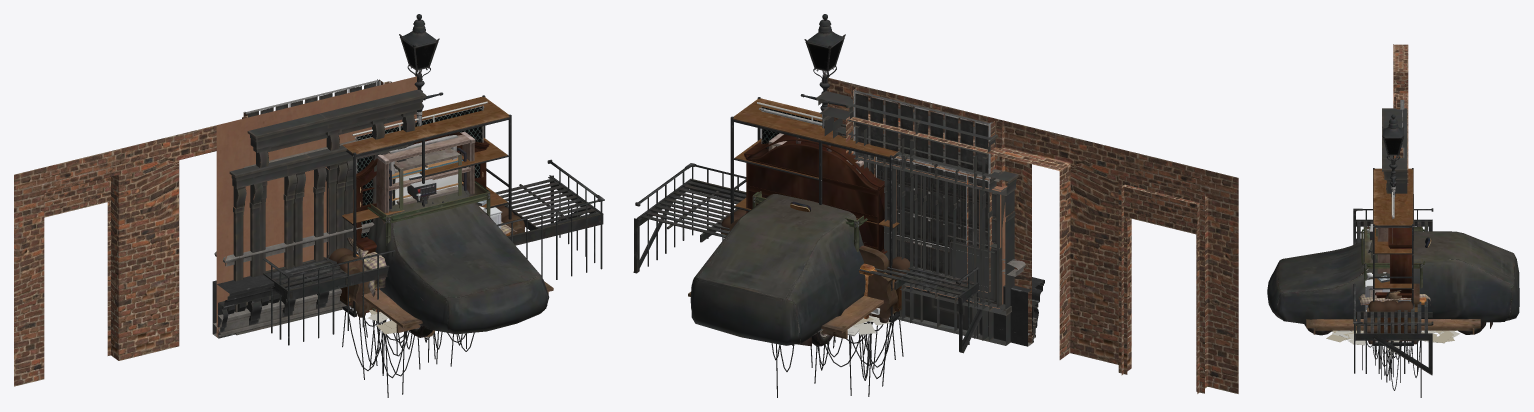
The model's file is props.glb.
The picture shows the model from 3 angles, left to right: view 1: azimuth 30°, elevation 25°; view 2: azimuth 150°, elevation 25°; view 3: azimuth 270°, elevation 25°; orthographic projection. The views are drawn at different scales.
Parts seen in each view (by area): view 1: U|modular_factory_facade|wall_door_garage_door_01, covered_car|all, UF|modular_urban_apartments_facade|wall_window_centered_larg, modular_fire_escape|modular_fire_escape_platform_middle, steel_frame_shelves_03|steel_frame_shelves_03, U|modular_urban_apartments_facade|wall_window_centered_doubl, U|modular_urban_apartments_facade|wall_door_centered_large_0, modular_fire_escape|modular_fire_escape_railing_middle, U|modular_urban_apartments_facade|crown_standard_standard_01, UF|modular_urban_apartments_facade|wall_window_centered_smal, U|modular_urban_apartments_facade|wall_door_window_small_07+, U|modular_urban_apartments_facade|wall_door_window_small_03+ (+18 smaller); view 2: U|modular_factory_facade|wall_door_garage_door_01, covered_car|all, U|modular_factory_facade|wall_window_tall_large_01+window_ta, vintage_cabinet_01|vintage_cabinet_01_body, U|modular_factory_facade|wall_window_centered_large_01+windo, modular_fire_escape|modular_fire_escape_platform_middle, U|modular_urban_apartments_facade|wall_door_centered_large_0, steel_frame_shelves_03|steel_frame_shelves_03, U|modular_urban_apartments_facade|wall_window_centered_doubl (×2), U|modular_urban_apartments_facade|wall_door_window_small_07+, sofa_03|all, U|modular_urban_apartments_facade|crown_standard_standard_01 (+10 smaller); view 3: covered_car|all, steel_frame_shelves_03|steel_frame_shelves_03, modular_fire_escape|modular_fire_escape_platform_middle, vintage_cabinet_01|vintage_cabinet_01_body, wooden_picnic_table|all, U|modular_factory_facade|wall_door_garage_door_01, sofa_03|all, modular_fire_escape|modular_fire_escape_railing_middle, street_lamp_01|all, industrial_storage_cart|all, U|modular_urban_apartments_facade|wall_door_centered_large_0, U|modular_urban_apartments_facade|wall_door_window_small_03+ (+4 smaller).
Boxes of the visible parts, x1,y1,x2,y2 form: U|modular_factory_facade|wall_door_garage_door_01: [14, 125, 216, 386]; covered_car|all: [367, 185, 549, 337]; UF|modular_urban_apartments_facade|wall_window_centered_larg: [216, 76, 417, 336]; modular_fire_escape|modular_fire_escape_platform_middle: [263, 175, 603, 300]; steel_frame_shelves_03|steel_frame_shelves_03: [342, 95, 511, 317]; U|modular_urban_apartments_facade|wall_window_centered_doubl: [229, 144, 407, 335]; U|modular_urban_apartments_facade|wall_door_centered_large_0: [247, 101, 395, 275]; modular_fire_escape|modular_fire_escape_railing_middle: [263, 159, 604, 345]; U|modular_urban_apartments_facade|crown_standard_standard_01: [212, 257, 340, 338]; UF|modular_urban_apartments_facade|wall_window_centered_smal: [254, 152, 356, 322]; U|modular_urban_apartments_facade|wall_door_window_small_07+: [230, 89, 425, 266]; U|modular_urban_apartments_facade|wall_door_window_small_03+: [231, 95, 426, 306]; U|modular_factory_facade|wall_door_garage_door_01: [846, 113, 1238, 393]; covered_car|all: [690, 194, 865, 346]; U|modular_factory_facade|wall_window_tall_large_01+window_ta: [851, 84, 1025, 276]; vintage_cabinet_01|vintage_cabinet_01_body: [744, 134, 887, 317]; U|modular_factory_facade|wall_window_centered_large_01+windo: [827, 77, 1031, 343]; modular_fire_escape|modular_fire_escape_platform_middle: [633, 178, 982, 353]; U|modular_urban_apartments_facade|wall_door_centered_large_0: [847, 105, 998, 340]; steel_frame_shelves_03|steel_frame_shelves_03: [730, 97, 899, 323]; U|modular_urban_apartments_facade|wall_window_centered_doubl (×2): [858, 156, 1017, 342]; U|modular_urban_apartments_facade|wall_door_window_small_07+: [816, 91, 1018, 317]; sofa_03|all: [720, 209, 909, 322]; U|modular_urban_apartments_facade|crown_standard_standard_01: [923, 277, 1044, 346]; covered_car|all: [1267, 231, 1519, 335]; steel_frame_shelves_03|steel_frame_shelves_03: [1372, 168, 1413, 345]; modular_fire_escape|modular_fire_escape_platform_middle: [1354, 219, 1432, 375]; vintage_cabinet_01|vintage_cabinet_01_body: [1375, 227, 1411, 341]; wooden_picnic_table|all: [1306, 265, 1480, 334]; U|modular_factory_facade|wall_door_garage_door_01: [1393, 44, 1408, 185]; sofa_03|all: [1367, 283, 1419, 344]; modular_fire_escape|modular_fire_escape_railing_middle: [1353, 208, 1433, 373]; street_lamp_01|all: [1382, 114, 1404, 196]; industrial_storage_cart|all: [1361, 226, 1425, 288]; U|modular_urban_apartments_facade|wall_door_centered_large_0: [1382, 108, 1407, 181]; U|modular_urban_apartments_facade|wall_door_window_small_03+: [1382, 134, 1407, 193].
Bounding box in the file's own units: 8.4 × 5.26 × 4.37.
Materials: 217 (189 with a texture image).
